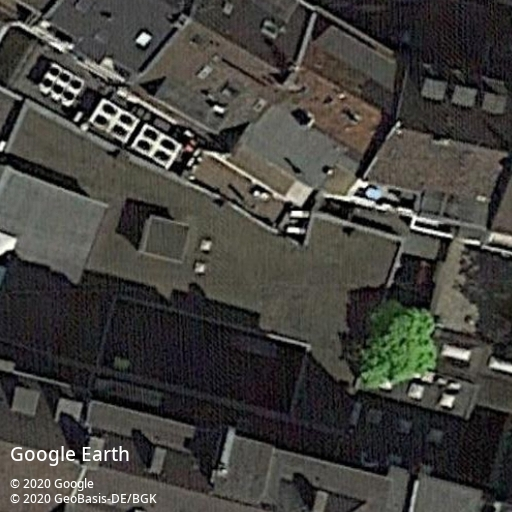Chiller: (88, 98, 138, 144), (132, 123, 181, 169), (60, 75, 85, 106), (39, 62, 62, 94), (50, 69, 73, 101)
